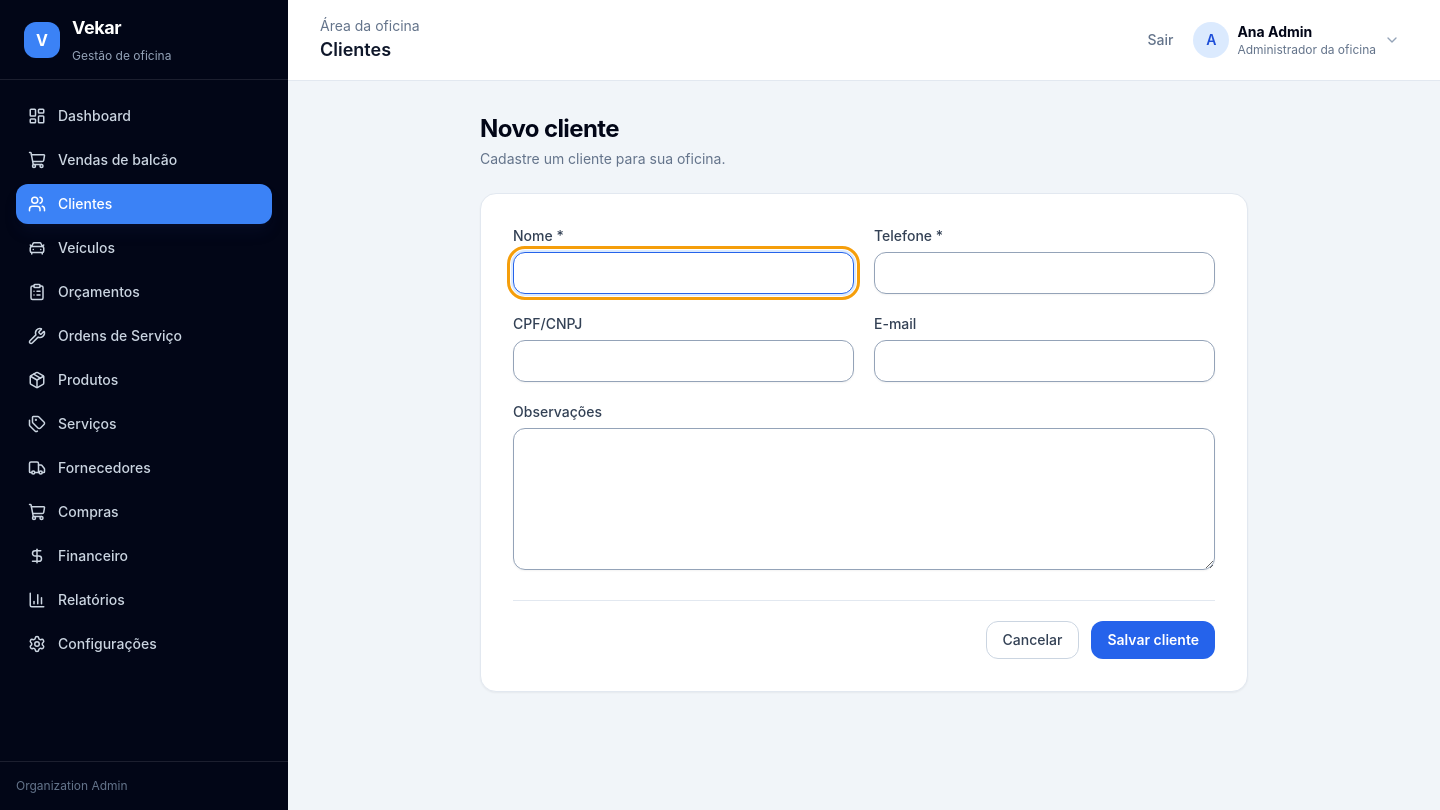
Test case: Customer management through the routed application › applies the CNPJ mask and validates Brazilian document and phone lengths
expect the heading "Novo cliente" is shown: met, box [480,114,619,143]
Type "Empresa" into the field labelled "Nome *".
click(684, 273); type("Empresa")  # box [513,252,854,294]
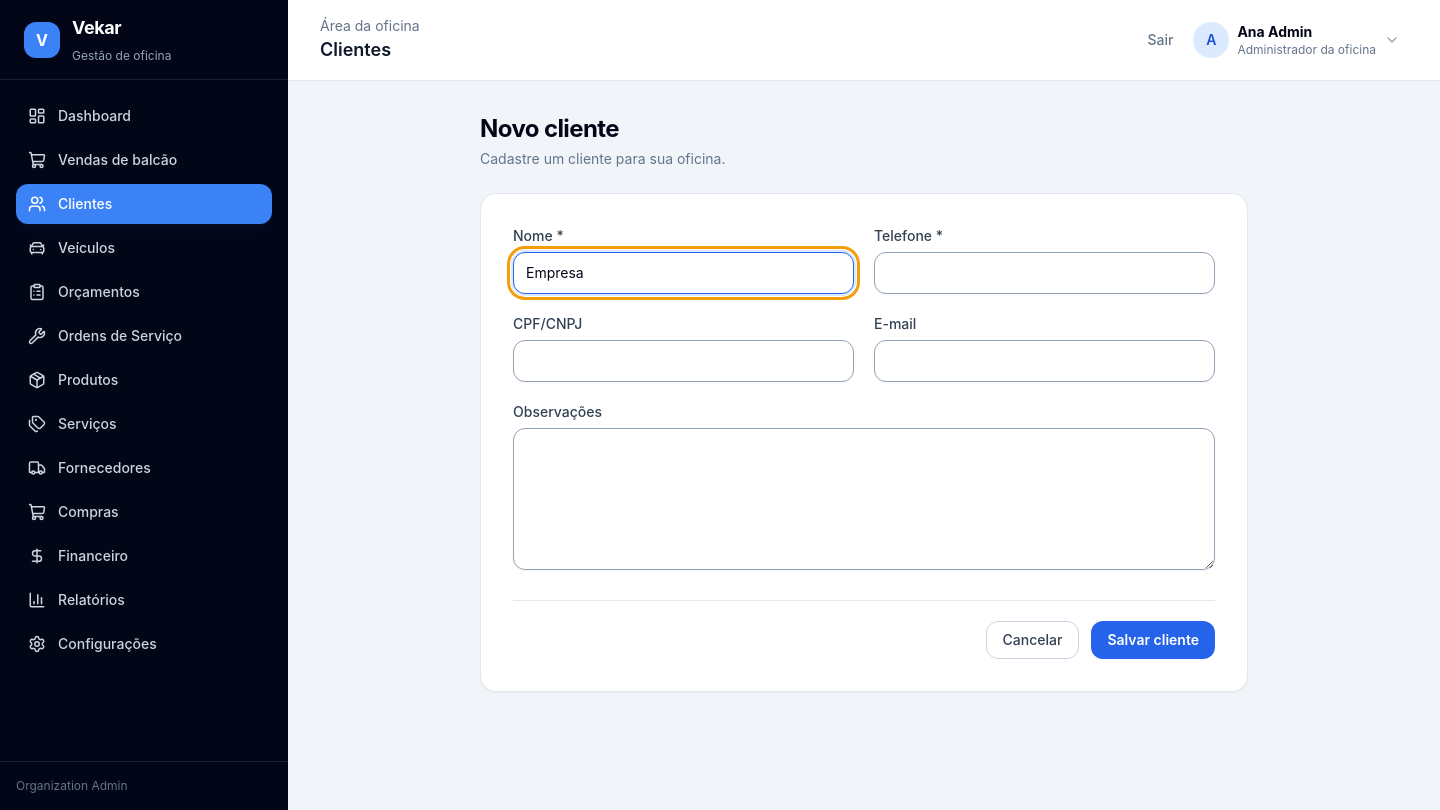
Type "8599" into the field labelled "Telefone *".
click(1044, 273); type("8599")  # box [874,252,1215,294]
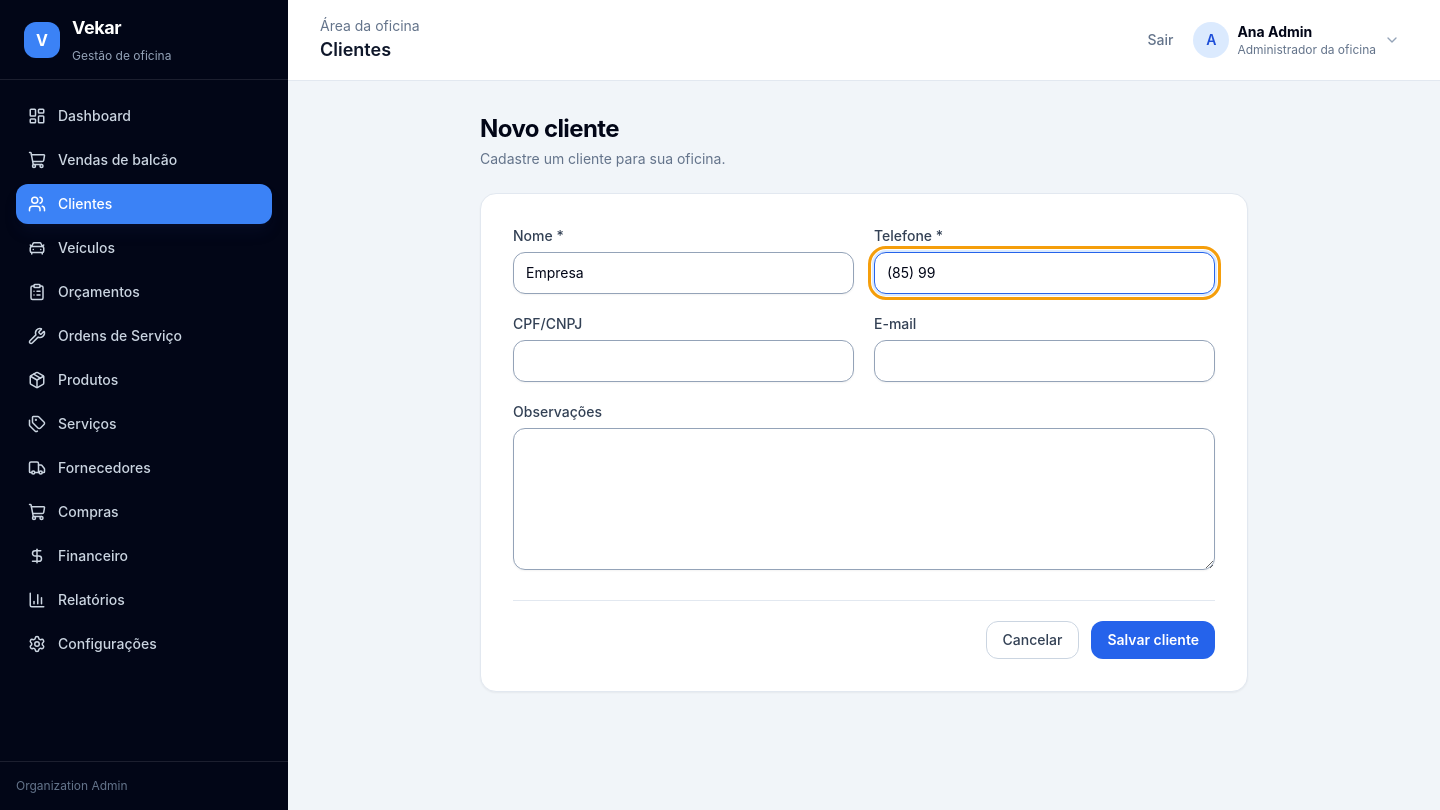
Type "11222333000181" into the field labelled "CPF/CNPJ".
click(684, 361); type("11222333000181")  # box [513,340,854,382]
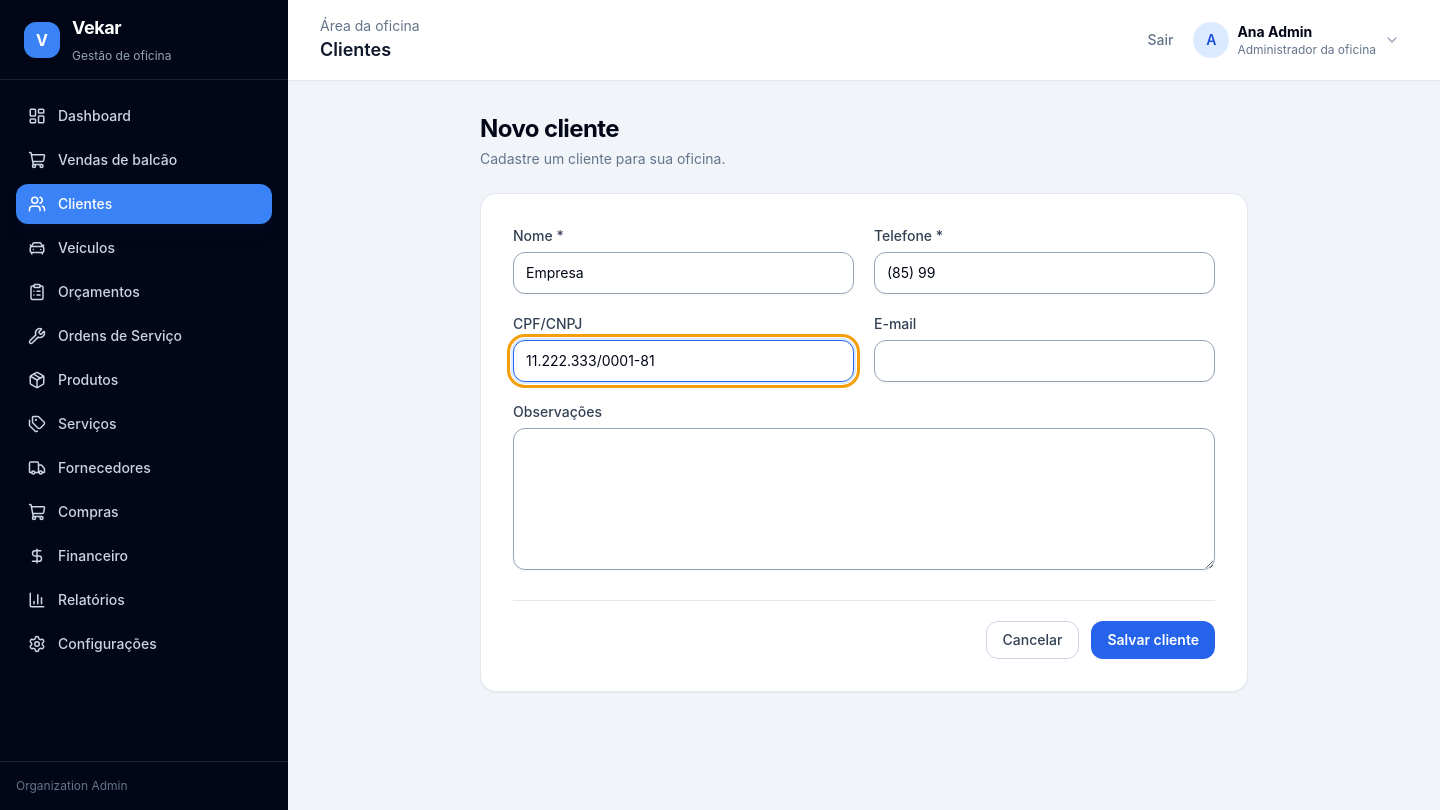
expect the field labelled "CPF/CNPJ" holds "11.222.333/0001-81": met, box [513,340,854,382]
Click the button "Salvar cliente".
click(1153, 640)  # box [1091,621,1215,659]
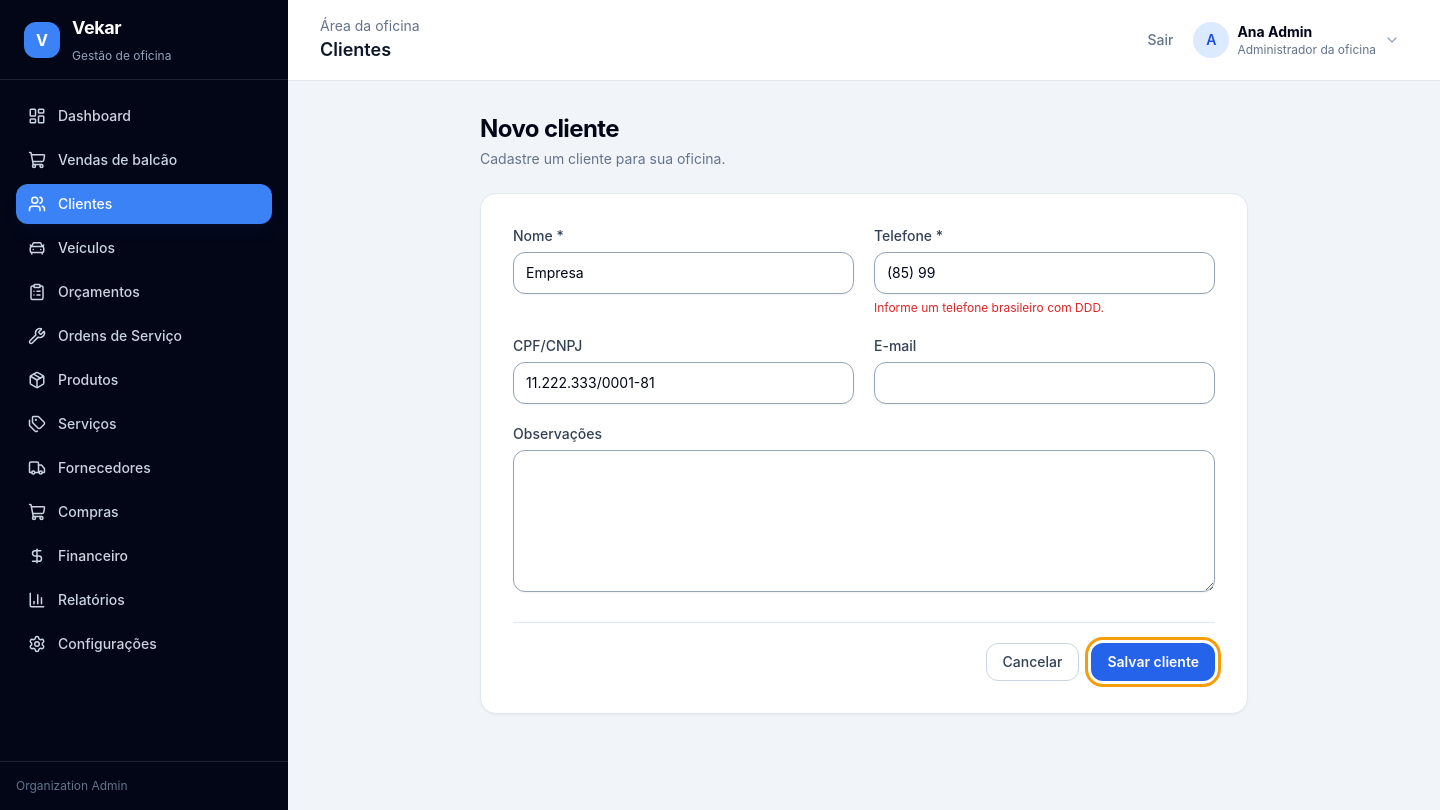
expect the text "Informe um telefone brasileiro com DDD." is shown: met, box [874,300,1104,315]
